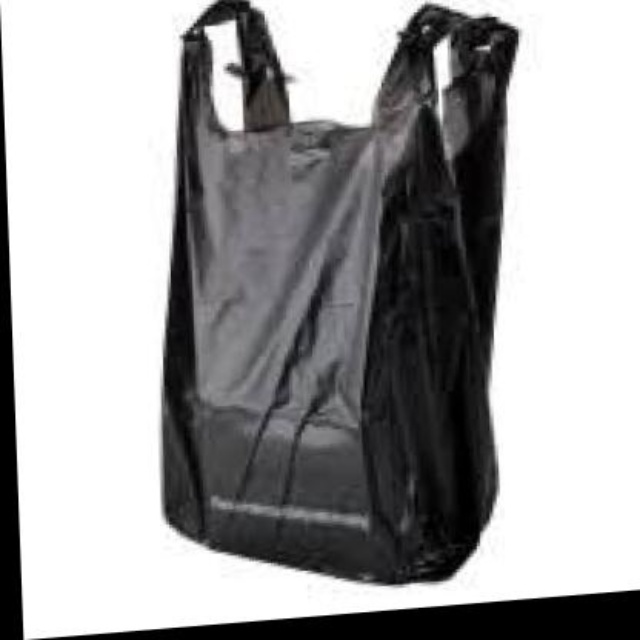trash: (163, 0, 517, 580)
